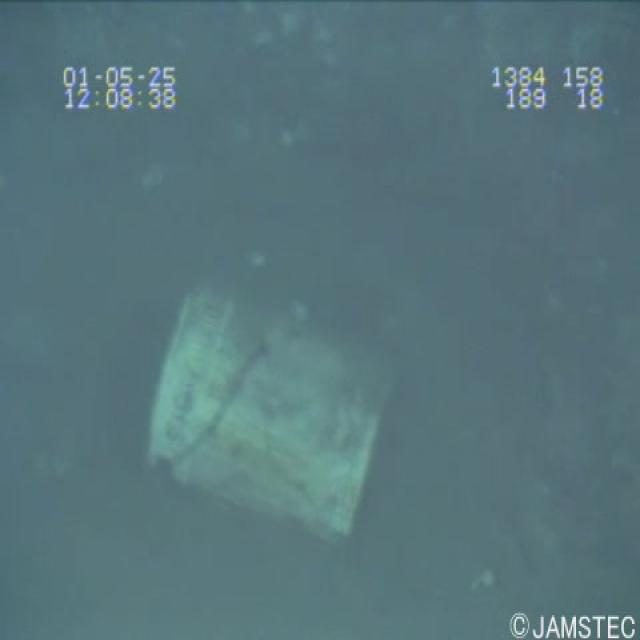plastic: (122, 263, 410, 558)
